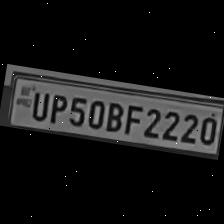0: (82, 95, 106, 131), (194, 111, 218, 146)
2: (139, 104, 163, 140), (158, 106, 182, 142), (176, 108, 200, 144)
5: (62, 91, 88, 127)
B: (102, 98, 126, 134)
F: (120, 100, 144, 136)
P: (44, 90, 68, 124)
U: (25, 87, 50, 121)
